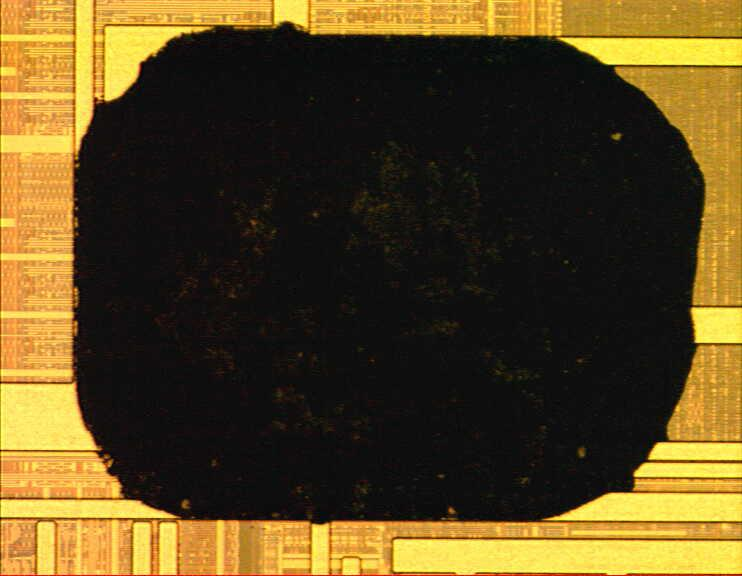PO CONTAMINATION: (58, 18, 721, 543)
